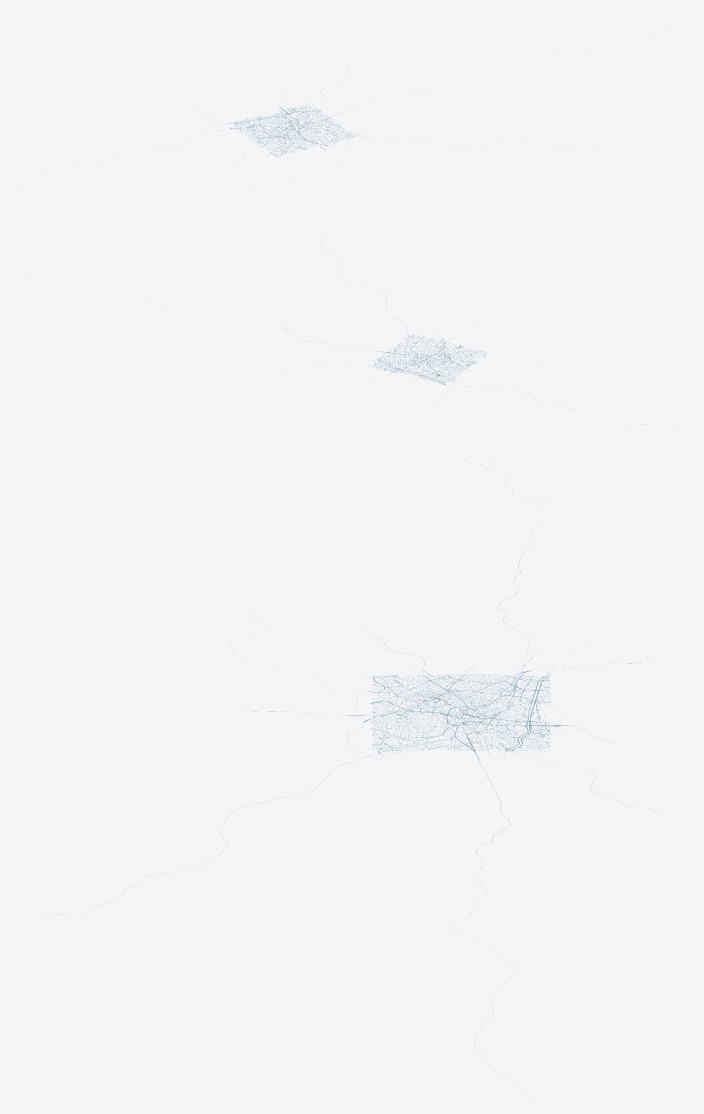
File: roads.glb
3 renders of one model, top to bottom at view 1: azimuth 30°, elevation 25°; view 2: azimuth 150°, elevation 25°; view 3: azimuth 270°, elevation 25°, orthographic. The views are drawn at different scales.
Parts seen in each view (by area): view 1: roads; view 2: roads; view 3: roads.
Boxes of the visible parts, x1=… form: roads: x1=44, y1=27, x2=672, y2=191; roads: x1=20, y1=243, x2=677, y2=426; roads: x1=47, y1=458, x2=658, y2=1098.
Bounding box in the file's own units: 77329 × 132 × 31192.
